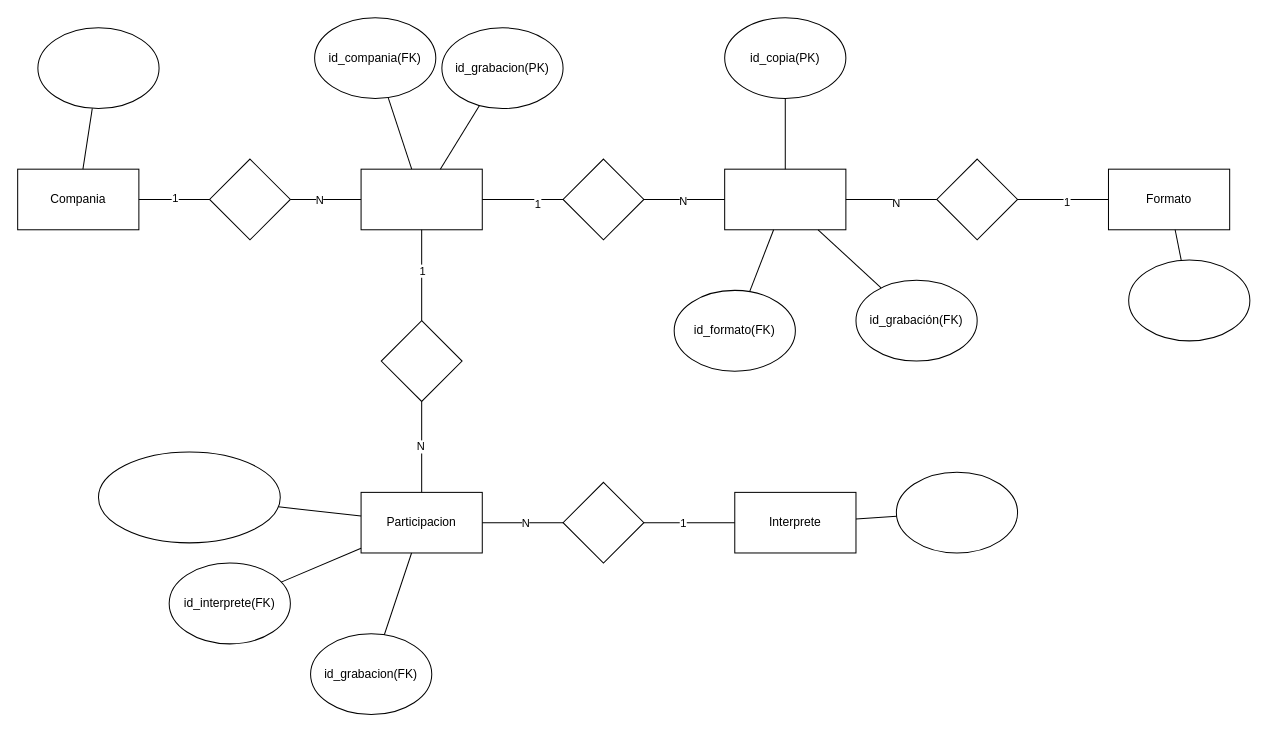
This 1268x732 diagram has some shape labels left out. Each missing label, with the box of its shape:
(id_grabacion,id_interprete)PK: (97, 451, 280, 543)
Copia: (724, 168, 846, 230)
Grabacion: (360, 168, 482, 230)
id_compania(PK): (37, 27, 159, 109)
id_formato(PK): (1128, 259, 1250, 341)
id_interprete(PK): (895, 471, 1018, 553)
